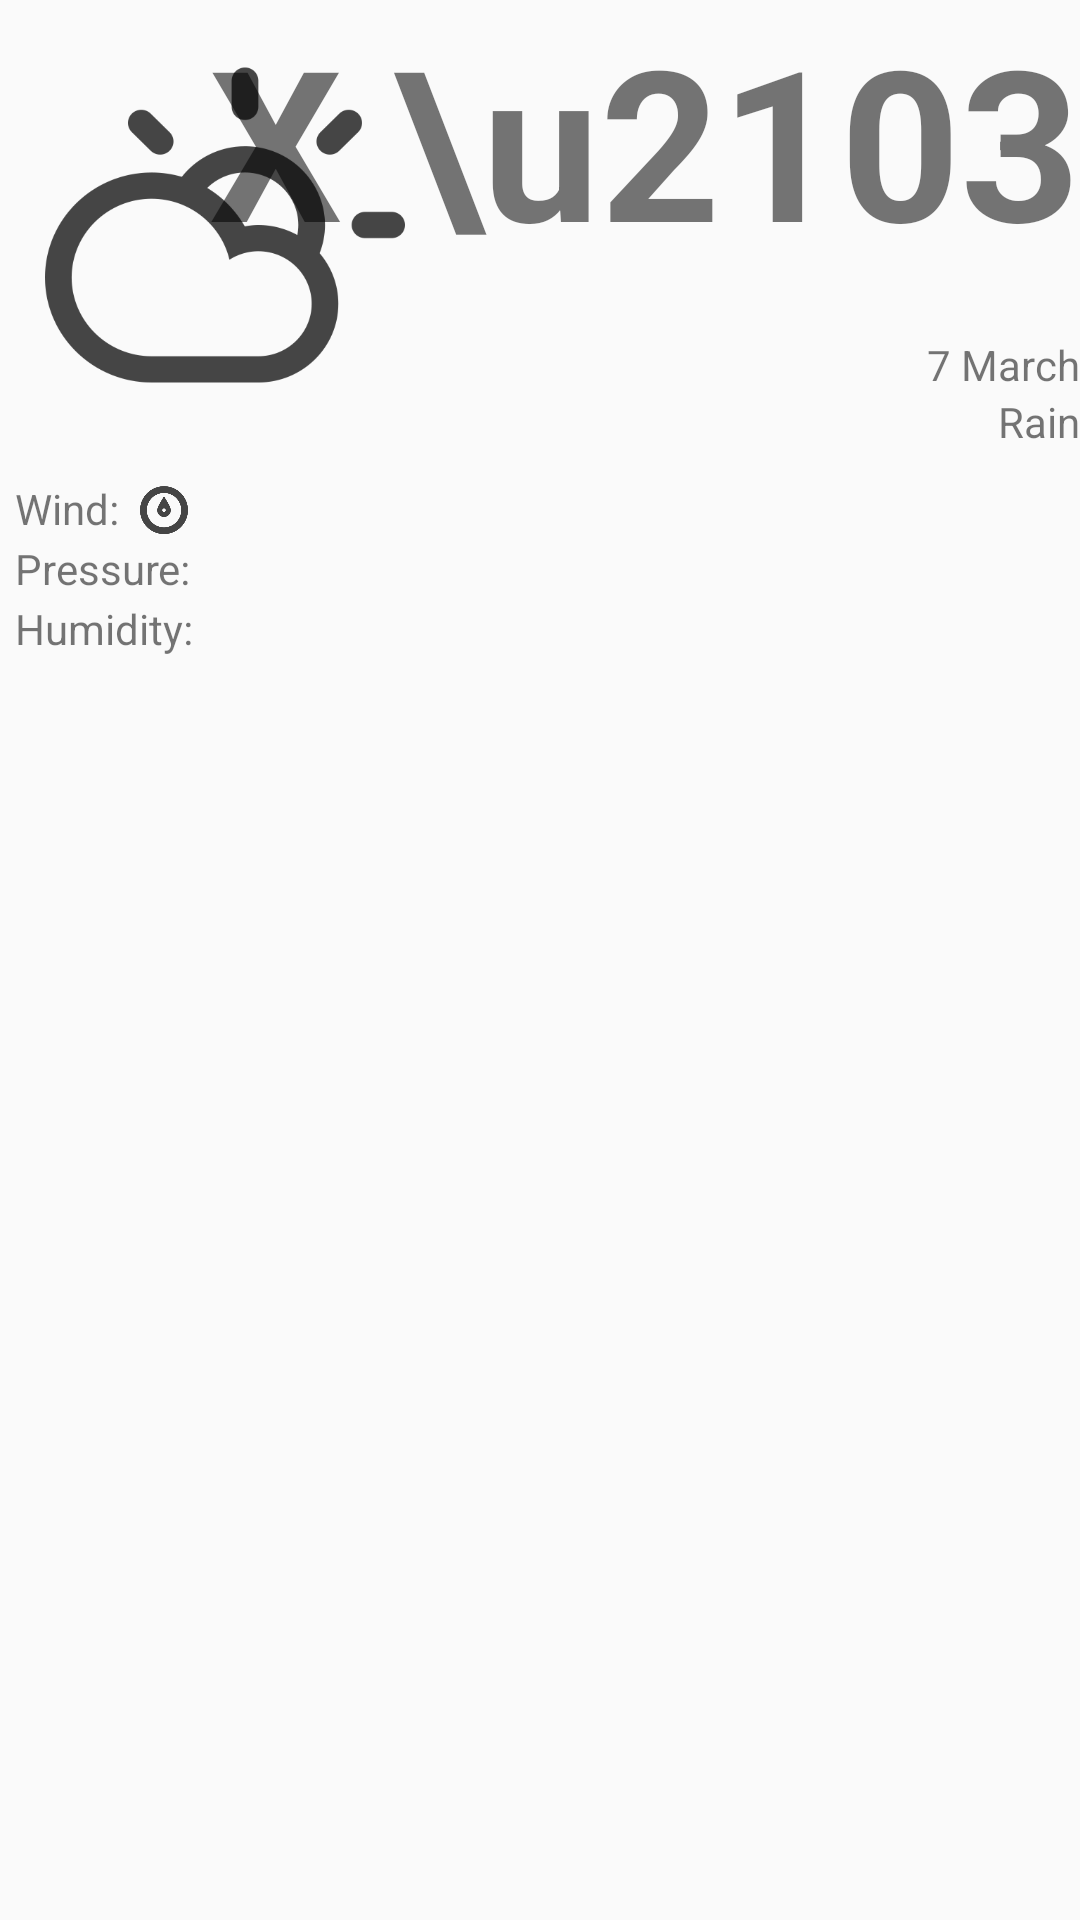

Icons on this 1080x1920 Android screen, each with its box as (x1, y1, x2, y2):
north: (140, 486, 188, 534)
sun cloud: (45, 67, 405, 383)
